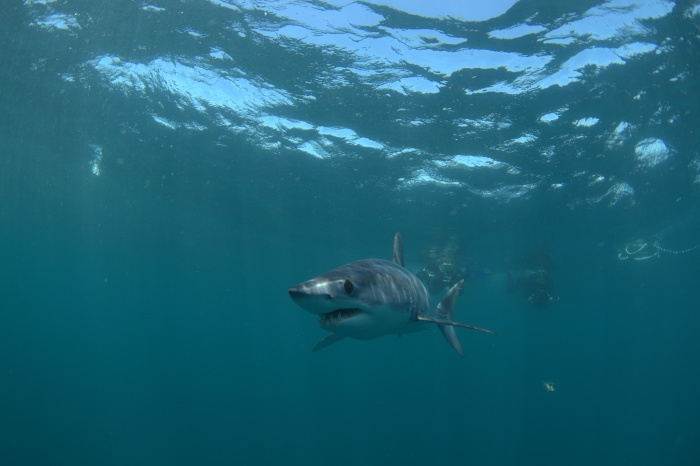Mako: (265, 224, 498, 365)
